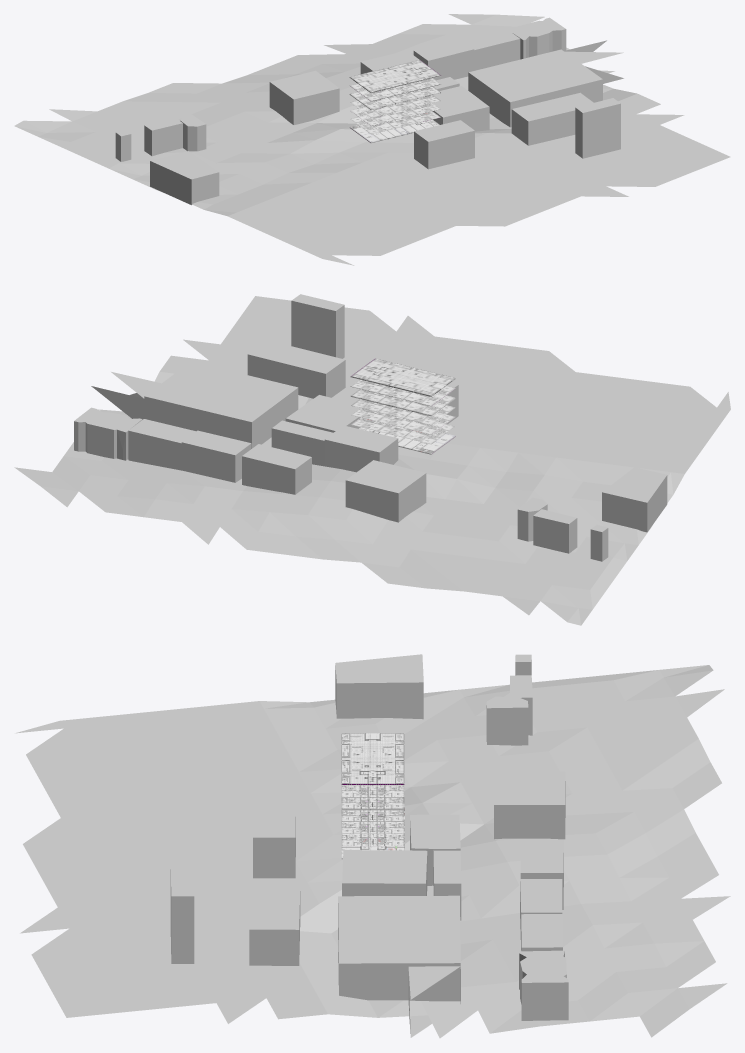
Rendered from bplans.glb.
3 renders of one model, top to bottom at view 1: azimuth 30°, elevation 25°; view 2: azimuth 150°, elevation 25°; view 3: azimuth 270°, elevation 25°, orthographic. The views are drawn at different scales.
Parts seen in each view (by area): view 1: ENV, flat-00.007; view 2: ENV, flat-00.007; view 3: ENV, flat-00.007.
Part boxes in pixels (<box>): ENV: <box>14,14,730,265</box>; flat-00.007: <box>350,60,440,92</box>; ENV: <box>14,294,730,625</box>; flat-00.007: <box>351,358,455,396</box>; ENV: <box>15,654,730,1038</box>; flat-00.007: <box>341,733,404,784</box>.
Size of the model in its own units: 80.78 by 10.65 by 66.07.
7 materials, 6 textured.
